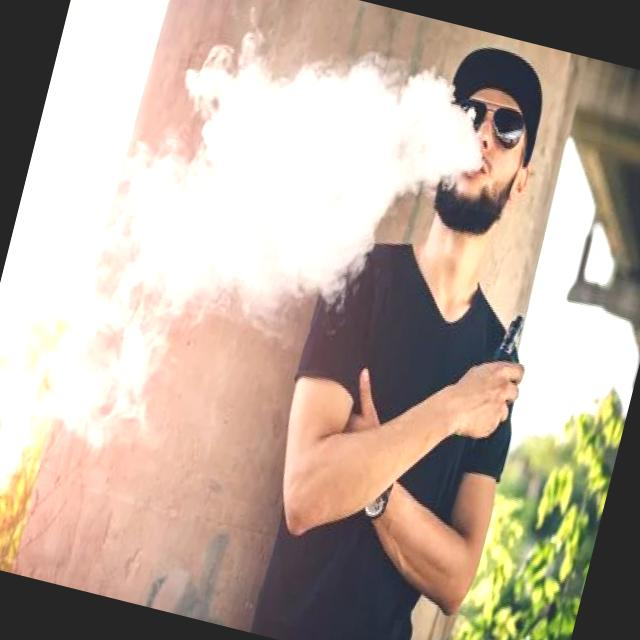smoke: (484, 304, 530, 388)
